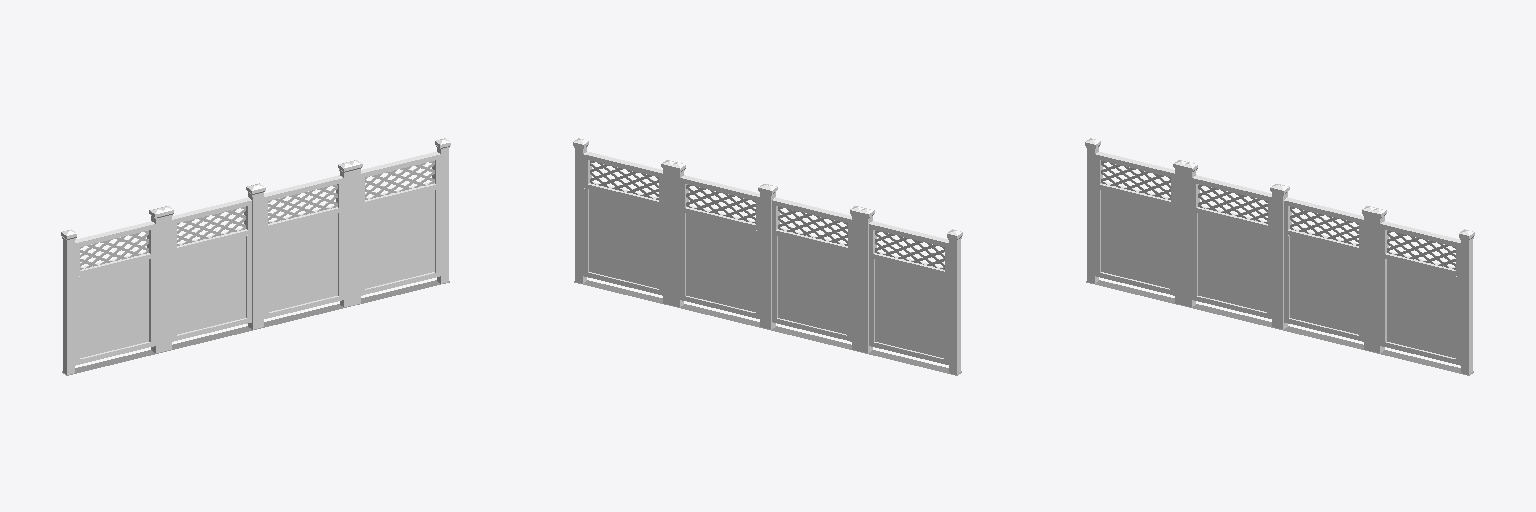
File: Valla_4.obj
3 renders of one model, left to right at view 1: azimuth 30°, elevation 25°; view 2: azimuth 150°, elevation 25°; view 3: azimuth 330°, elevation 25°, orthographic.
Visible parts, largest first — view 1: PolyMesh_7_53, PolyMesh_7_40, PolyMesh_7_27, PolyMesh_7_14, ground_1, PolyMesh_4_3_3, PolyMesh_4_3_42, PolyMesh_4_3_29, PolyMesh_4_2_5, PolyMesh_4_2_44, PolyMesh_4_2_31, PolyMesh_4_3_16 (+9 smaller); view 2: PolyMesh_7_53, PolyMesh_7_40, PolyMesh_7_14, PolyMesh_7_27, ground_1, PolyMesh_4_3_3, PolyMesh_4_2_5, PolyMesh_4_3_42, PolyMesh_4_2_44, PolyMesh_4_2_31, PolyMesh_4_3_16, PolyMesh_3_7 (+14 smaller); view 3: PolyMesh_7_27, PolyMesh_7_14, PolyMesh_7_40, PolyMesh_7_53, ground_1, PolyMesh_4_2_44, PolyMesh_4_2_5, PolyMesh_4_2_18, PolyMesh_4_3_42, PolyMesh_4_3_3, PolyMesh_4_3_16, PolyMesh_4_2_31 (+9 smaller).
Part boxes in pixels (x1,y1,x2,y2): PolyMesh_7_53: (365,190,434,288); PolyMesh_7_40: (269,213,337,311); PolyMesh_7_27: (177,236,245,334); PolyMesh_7_14: (80,260,148,357); ground_1: (62,280,449,375); PolyMesh_4_3_3: (63,239,74,374); PolyMesh_4_3_42: (352,170,360,305); PolyMesh_4_3_29: (255,194,263,328); PolyMesh_4_2_5: (151,217,163,352); PolyMesh_4_2_44: (437,148,448,283); PolyMesh_4_2_31: (340,172,351,306); PolyMesh_4_3_16: (164,216,171,350); PolyMesh_7_53: (589,190,658,288); PolyMesh_7_40: (686,213,755,311); PolyMesh_7_14: (875,259,943,357); PolyMesh_7_27: (778,236,846,334); ground_1: (574,280,961,375); PolyMesh_4_3_3: (949,239,960,374); PolyMesh_4_2_5: (860,217,872,352); PolyMesh_4_3_42: (663,170,671,305); PolyMesh_4_2_44: (575,148,586,283); PolyMesh_4_2_31: (672,172,683,306); PolyMesh_4_3_16: (852,216,859,350); PolyMesh_3_7: (875,230,944,269); PolyMesh_7_27: (1198,213,1266,311); PolyMesh_7_14: (1101,190,1169,288); PolyMesh_7_40: (1290,236,1358,334); PolyMesh_7_53: (1387,260,1455,357); ground_1: (1086,280,1473,375); PolyMesh_4_2_44: (1461,239,1472,374); PolyMesh_4_2_5: (1175,170,1183,305); PolyMesh_4_2_18: (1272,194,1280,328); PolyMesh_4_3_42: (1372,217,1384,352); PolyMesh_4_3_3: (1087,148,1098,283); PolyMesh_4_3_16: (1184,172,1195,306); PolyMesh_4_2_31: (1364,216,1371,350).
Bounding box in the file's own units: 286 × 101 × 7.4.